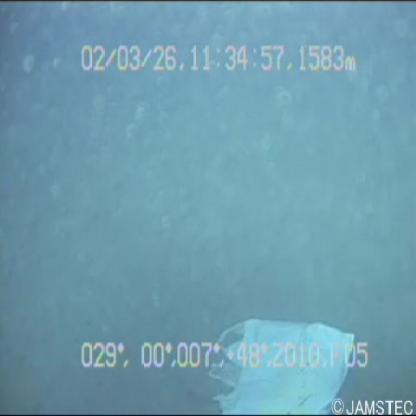Rác: (199, 303, 356, 416)
